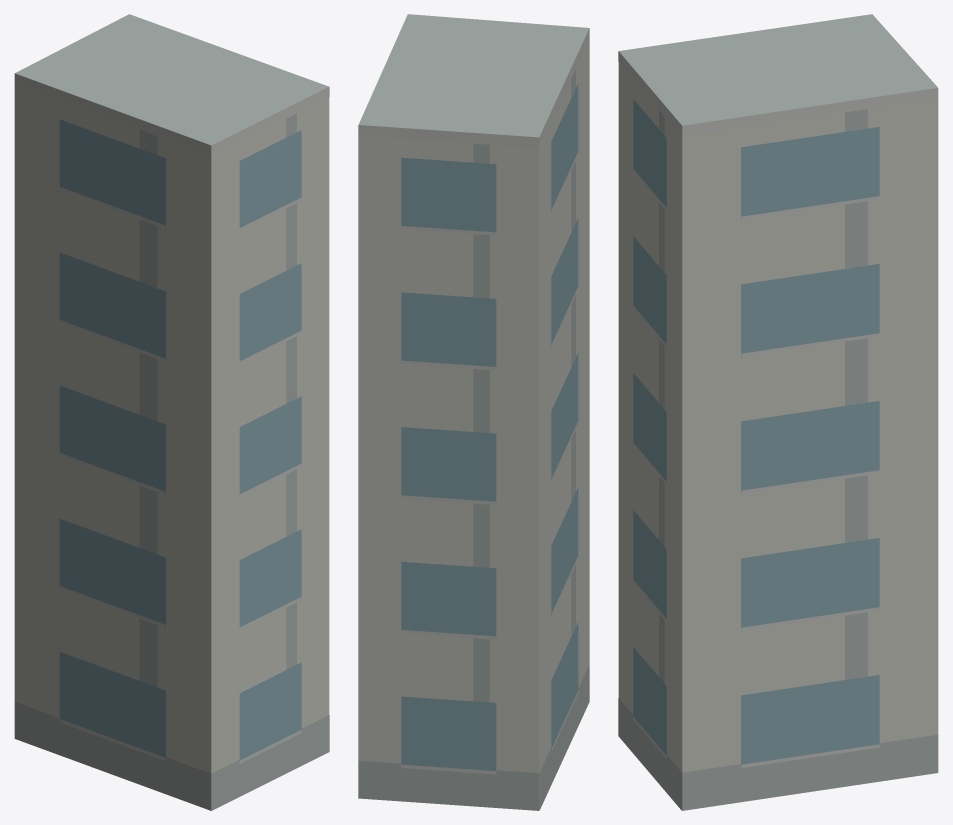
The model's file is survey-upis-32647313.glb.
3 renders of one model, left to right at view 1: azimuth 30°, elevation 25°; view 2: azimuth 150°, elevation 25°; view 3: azimuth 270°, elevation 25°, orthographic. The views are drawn at different scales.
Visible parts, largest first — view 1: survey-upis-32647313.tmp; view 2: survey-upis-32647313.tmp; view 3: survey-upis-32647313.tmp.
Part boxes in pixels (left/top/right/bottom): survey-upis-32647313.tmp: left=14, top=14, right=329, bottom=810; survey-upis-32647313.tmp: left=358, top=14, right=589, bottom=810; survey-upis-32647313.tmp: left=618, top=14, right=938, bottom=810.
Size of the model in its own units: 5.34 by 15.25 by 6.46.
